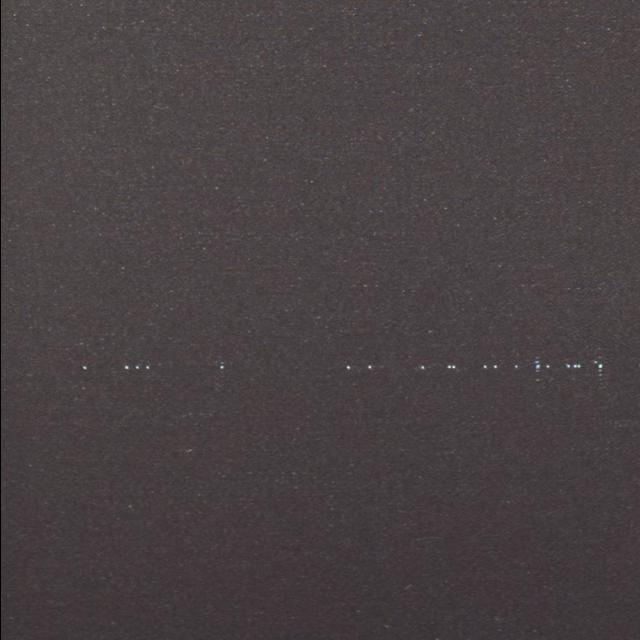Warp_Weft: (78, 359, 608, 374)
